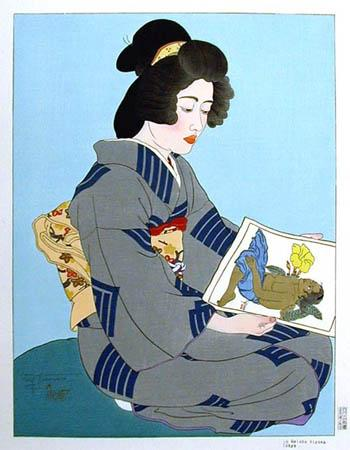person: (48, 42, 343, 442)
